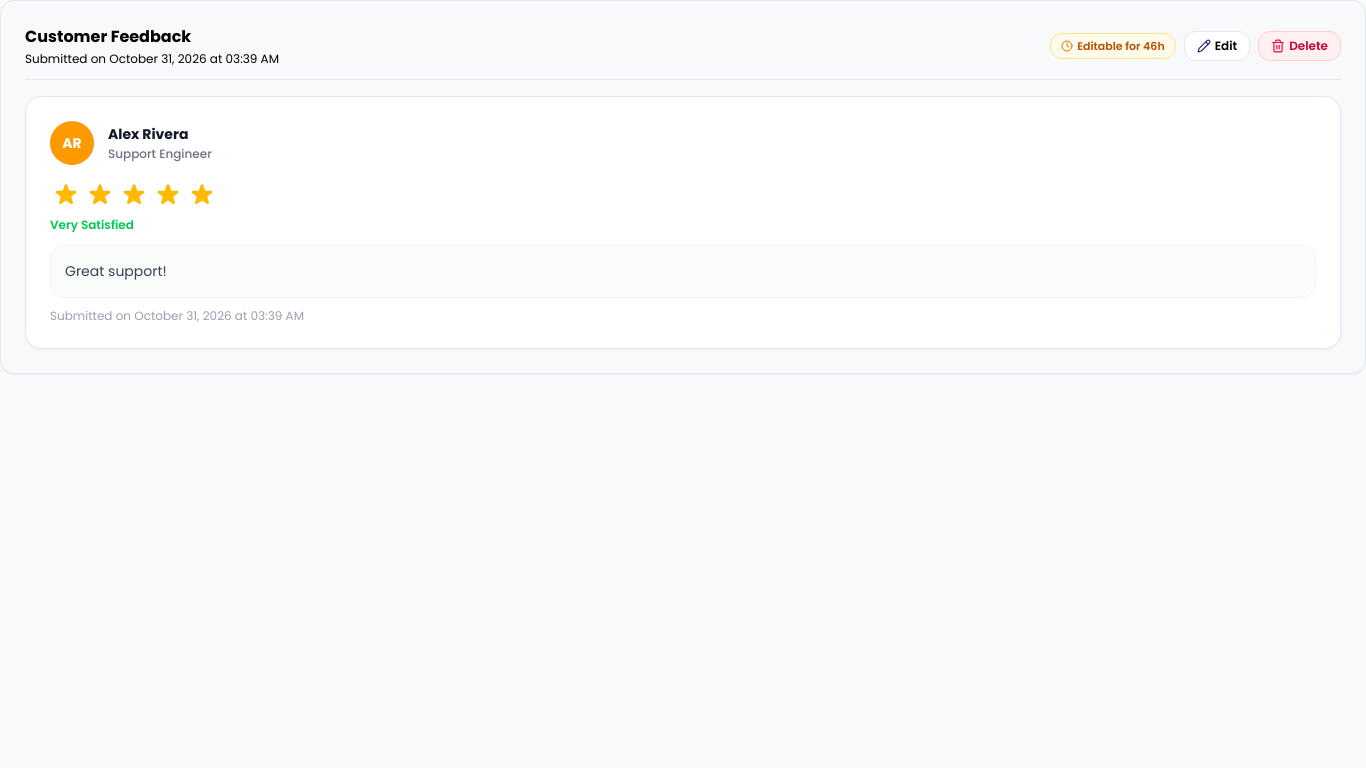
Test: Customer Feedback Lifecycle Tests (Submit, Dismiss, Edit, Delete) › covers AC-11 (delete cancel): cancels delete confirmation modal and keeps feedback unchanged
This screenshot has width=1366, height=768.
Click the button "Delete" at (1300, 46), box [1258,31,1341,61]
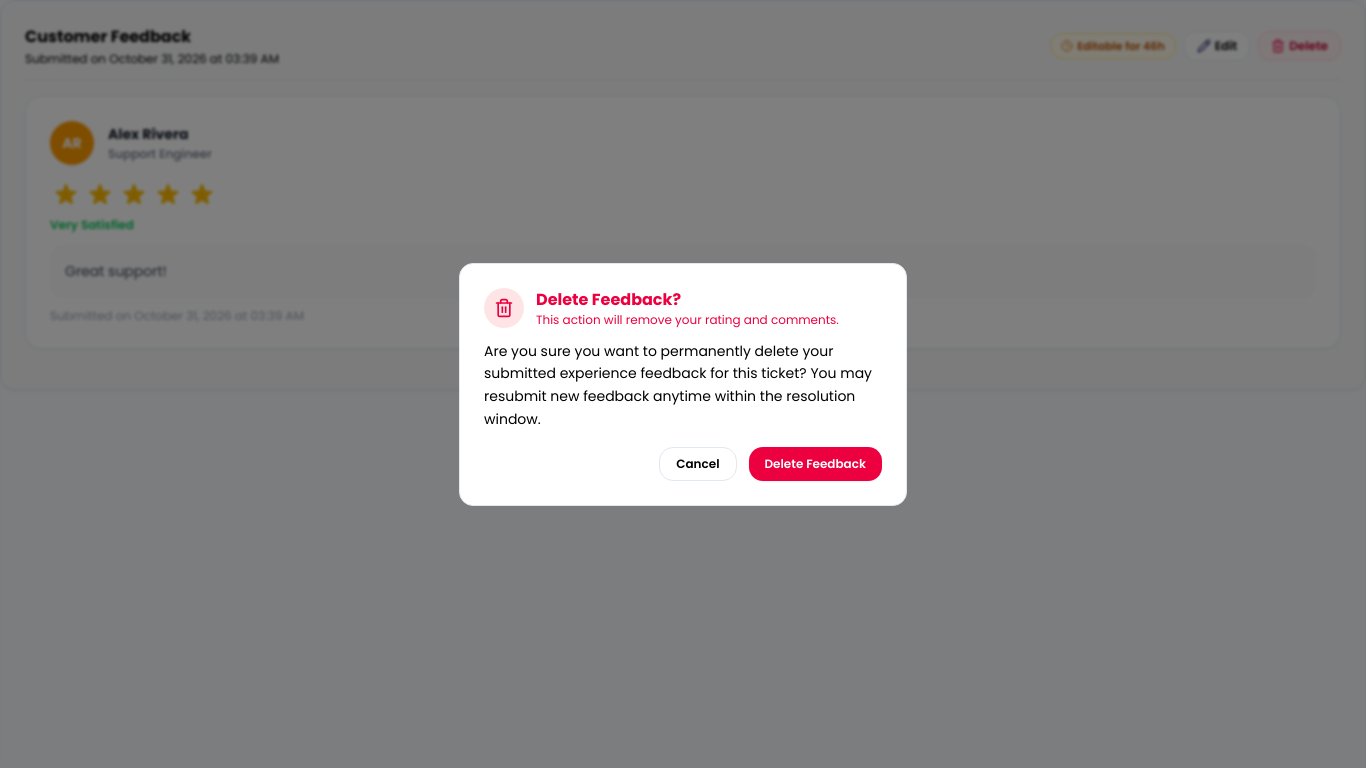
Now the heading "Delete Feedback?" is shown, box [536,288,681,310]
Click Cancel
Click the button "Cancel" at (698, 464), box [659,446,737,480]
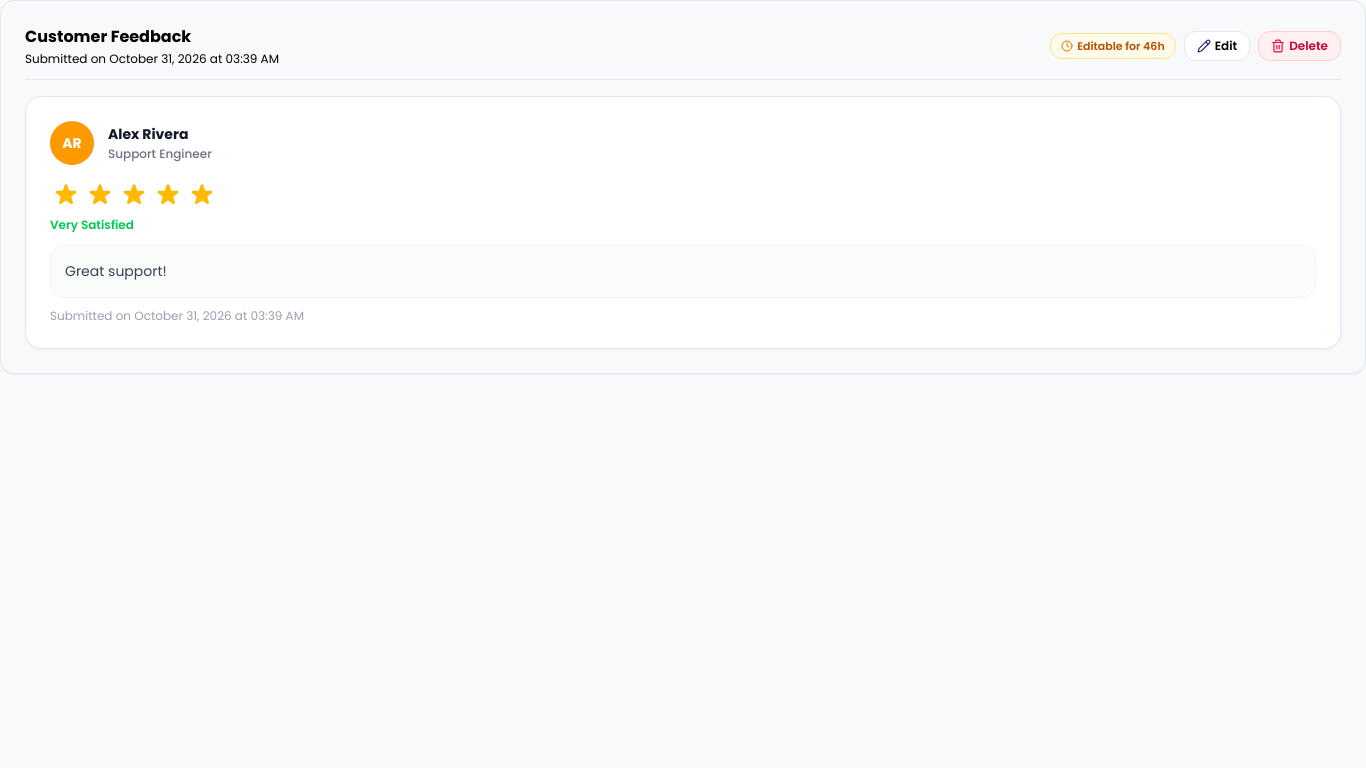
Expected: the heading "Customer Feedback" is shown, [25,25,191,48]
Now the heading "Delete Feedback?" is gone
